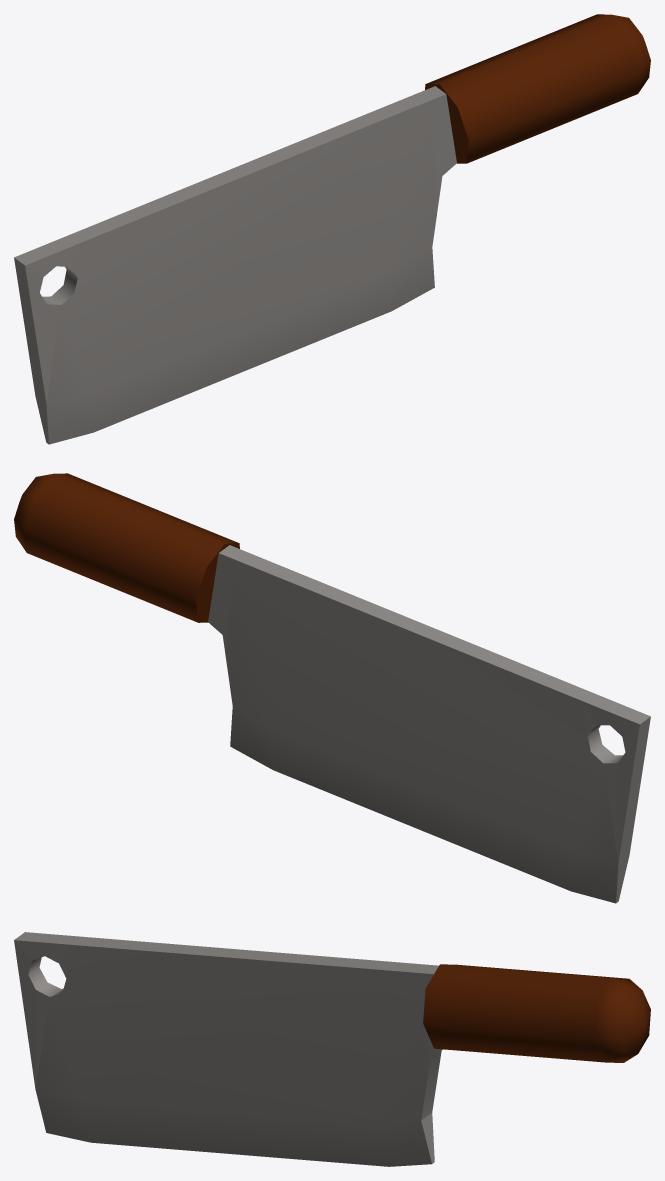
File: Hat_88_03.fbx
3 renders of one model, top to bottom at view 1: azimuth 30°, elevation 25°; view 2: azimuth 150°, elevation 25°; view 3: azimuth 330°, elevation 25°, orthographic.
Parts seen in each view (by area): view 1: Hat_88_03; view 2: Hat_88_03; view 3: Hat_88_03.
Boxes of the visible parts, left/top/right/bottom form: Hat_88_03: left=14, top=14, right=650, bottom=444; Hat_88_03: left=14, top=473, right=650, bottom=903; Hat_88_03: left=14, top=932, right=650, bottom=1166.
Size of the model in its own units: 41.49 by 18.45 by 5.28.
